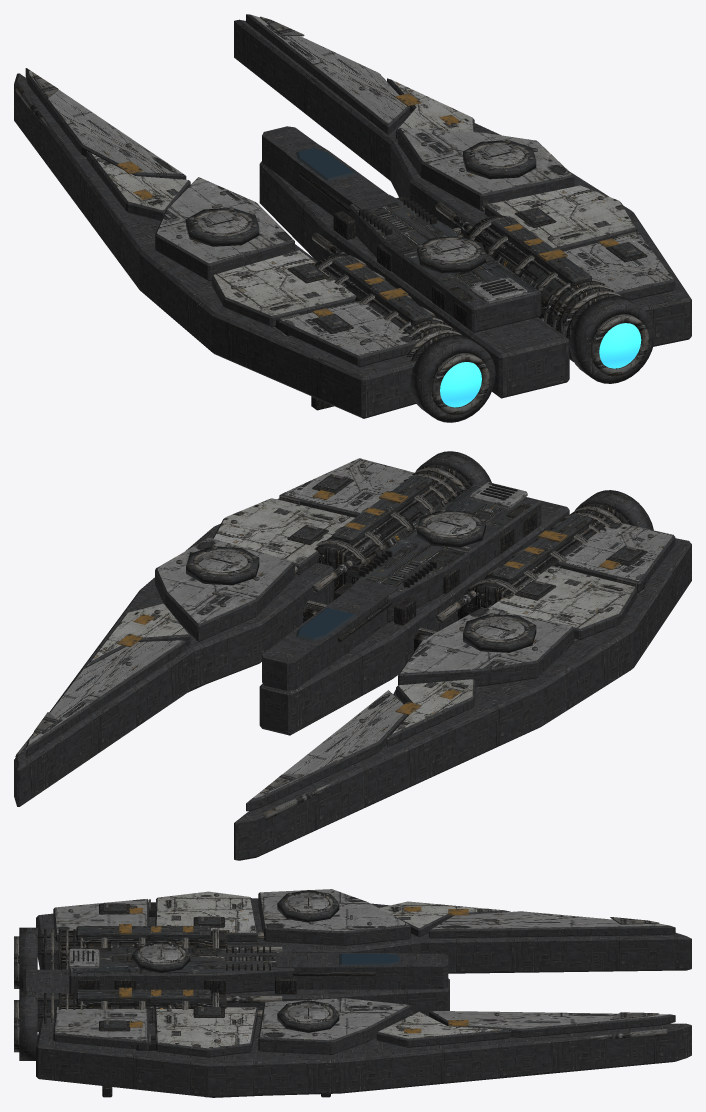
File: interceptor-rust.glb
The picture shows the model from 3 angles, top to bottom: view 1: azimuth 30°, elevation 25°; view 2: azimuth 150°, elevation 25°; view 3: azimuth 270°, elevation 25°; orthographic projection. The views are drawn at different scales.
Parts seen in each view (by area): view 1: Hull_LOD0, Engine_Cores, Cockpit_Inset, CAP_S01_PORT, CAP_S03_CENTRE, CAP_S02_STARBOARD; view 2: Hull_LOD0, Cockpit_Inset, CAP_S01_PORT, CAP_S03_CENTRE, CAP_S02_STARBOARD; view 3: Hull_LOD0, Cockpit_Inset, CAP_S03_CENTRE, CAP_S01_PORT, CAP_S02_STARBOARD.
Part boxes in pixels (left/top/right/bottom): Hull_LOD0: left=14, top=14, right=691, bottom=422; Engine_Cores: left=440, top=323, right=641, bottom=407; Cockpit_Inset: left=296, top=148, right=356, bottom=181; CAP_S01_PORT: left=197, top=212, right=247, bottom=233; CAP_S03_CENTRE: left=426, top=239, right=476, bottom=260; CAP_S02_STARBOARD: left=474, top=144, right=524, bottom=165; Hull_LOD0: left=14, top=451, right=691, bottom=860; Cockpit_Inset: left=296, top=608, right=356, bottom=641; CAP_S01_PORT: left=474, top=618, right=524, bottom=639; CAP_S03_CENTRE: left=426, top=513, right=476, bottom=534; CAP_S02_STARBOARD: left=197, top=551, right=247, bottom=571; Hull_LOD0: left=14, top=889, right=691, bottom=1097; Cockpit_Inset: left=339, top=953, right=400, bottom=965; CAP_S03_CENTRE: left=140, top=945, right=181, bottom=962; CAP_S01_PORT: left=287, top=894, right=328, bottom=911; CAP_S02_STARBOARD: left=287, top=1004, right=328, bottom=1021.
Size of the model in its own units: 88.07 by 18.82 by 150.
Materials: 5 (2 with a texture image).
